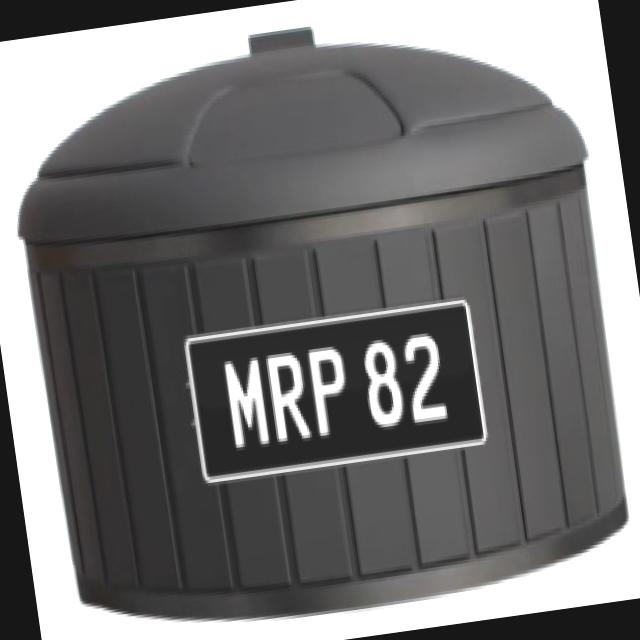bin_plate: (185, 298, 490, 482)
